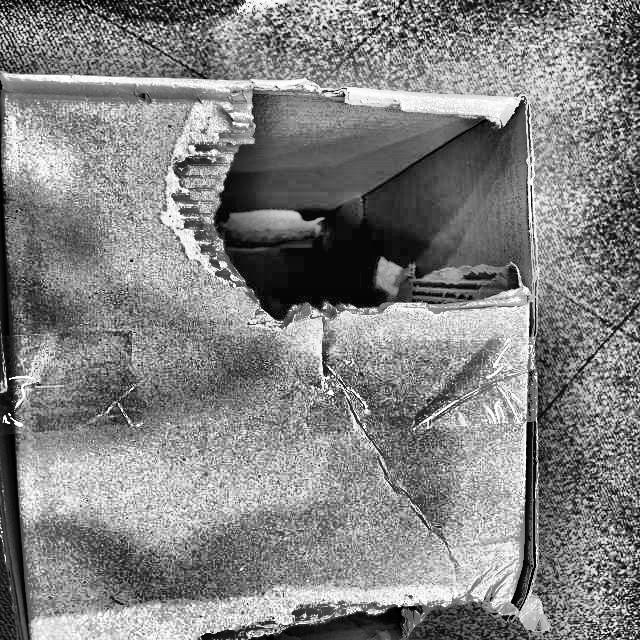box: (0, 51, 558, 628)
hole: (177, 80, 535, 306), (240, 598, 428, 640)
